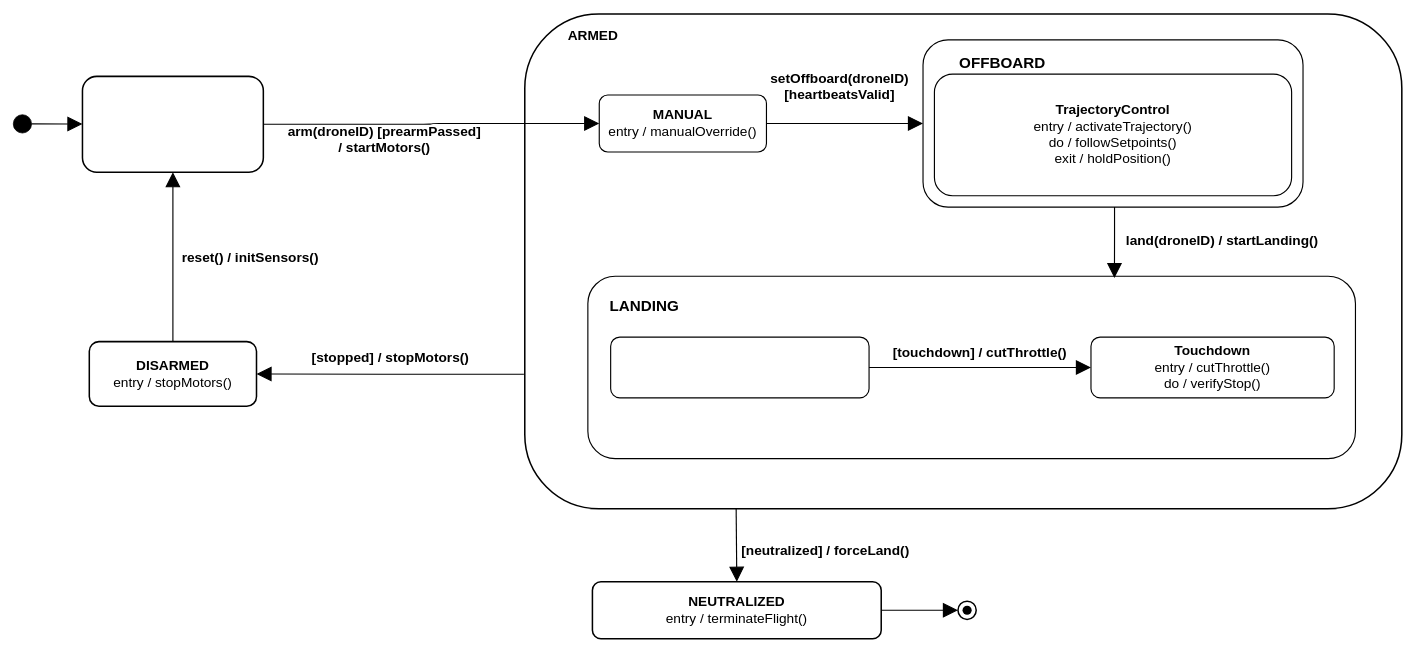
This 1416x652 diagram has some shape labels left out. Here are the shapes that lost their labels. From the top down, the centre of each, then its label:
the point at 172,124: INIT entry / runPrearmChecks() do / streamHeartbeats()
the point at 739,367: Descending entry / startDescent() do / reduceAltitude()
